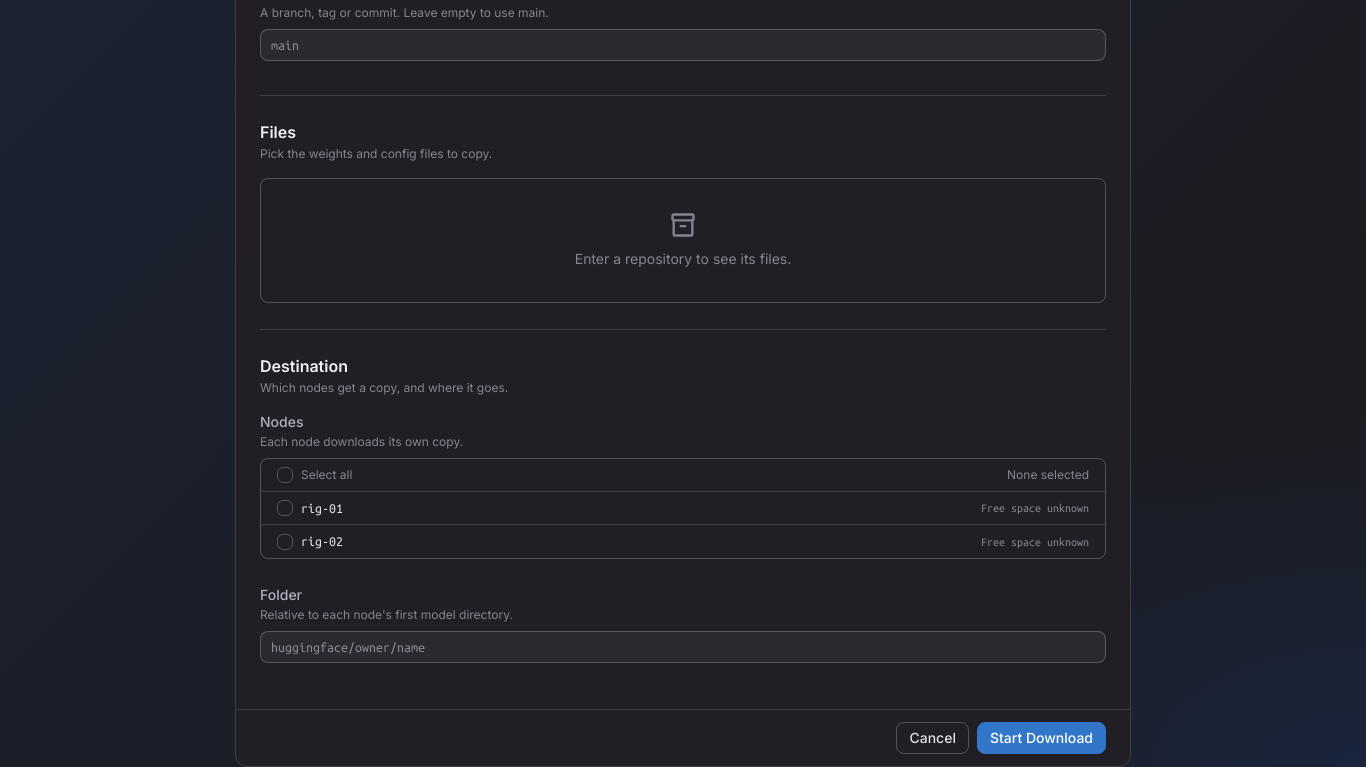
Test: Create download › counts the ticked nodes, and ticks every node from Select all
(page scrolled)
Click the checkbox labelled "rig-01" at (310, 508), box [277, 500, 343, 516]
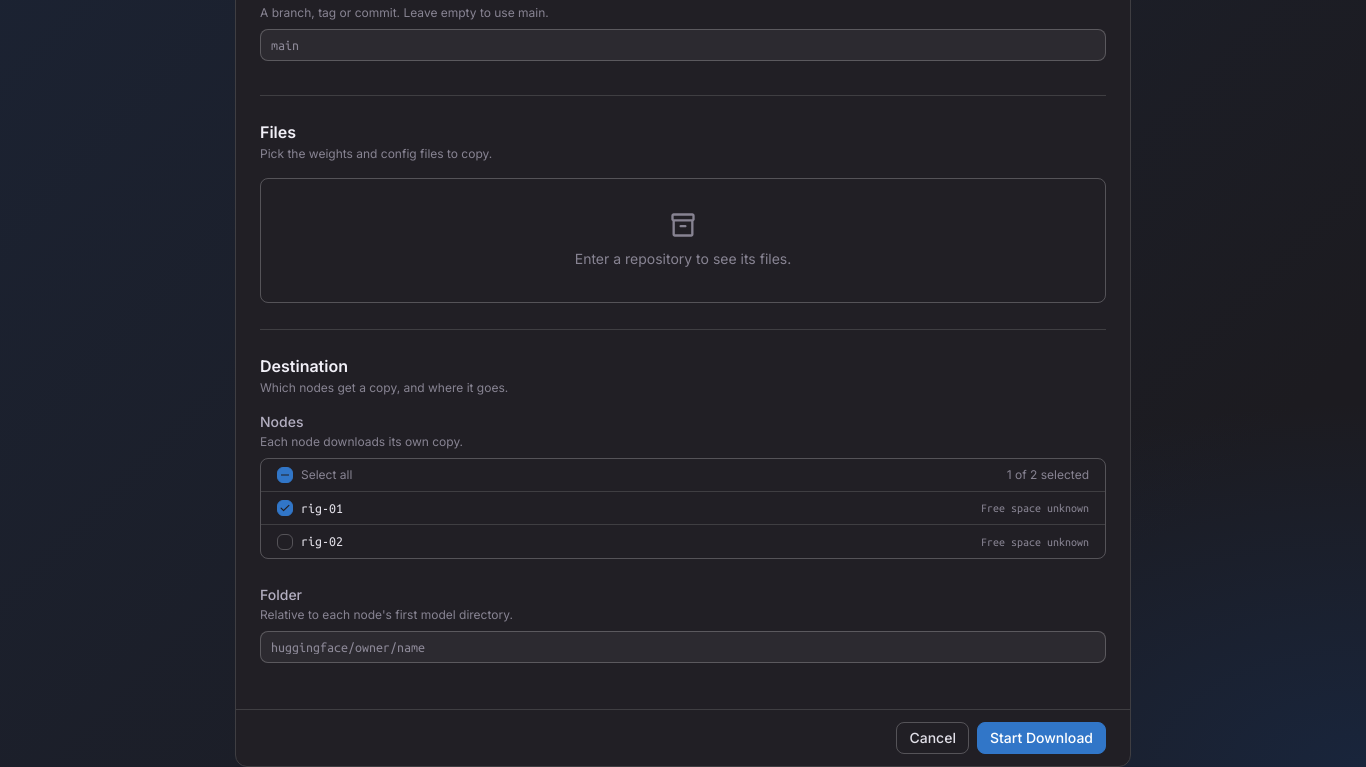
Check: the text with test id "picker-summary" reads "1 of 2 selected", box [1007, 467, 1089, 482]
Click the checkbox labelled "Select all" at (315, 475), box [277, 467, 352, 483]
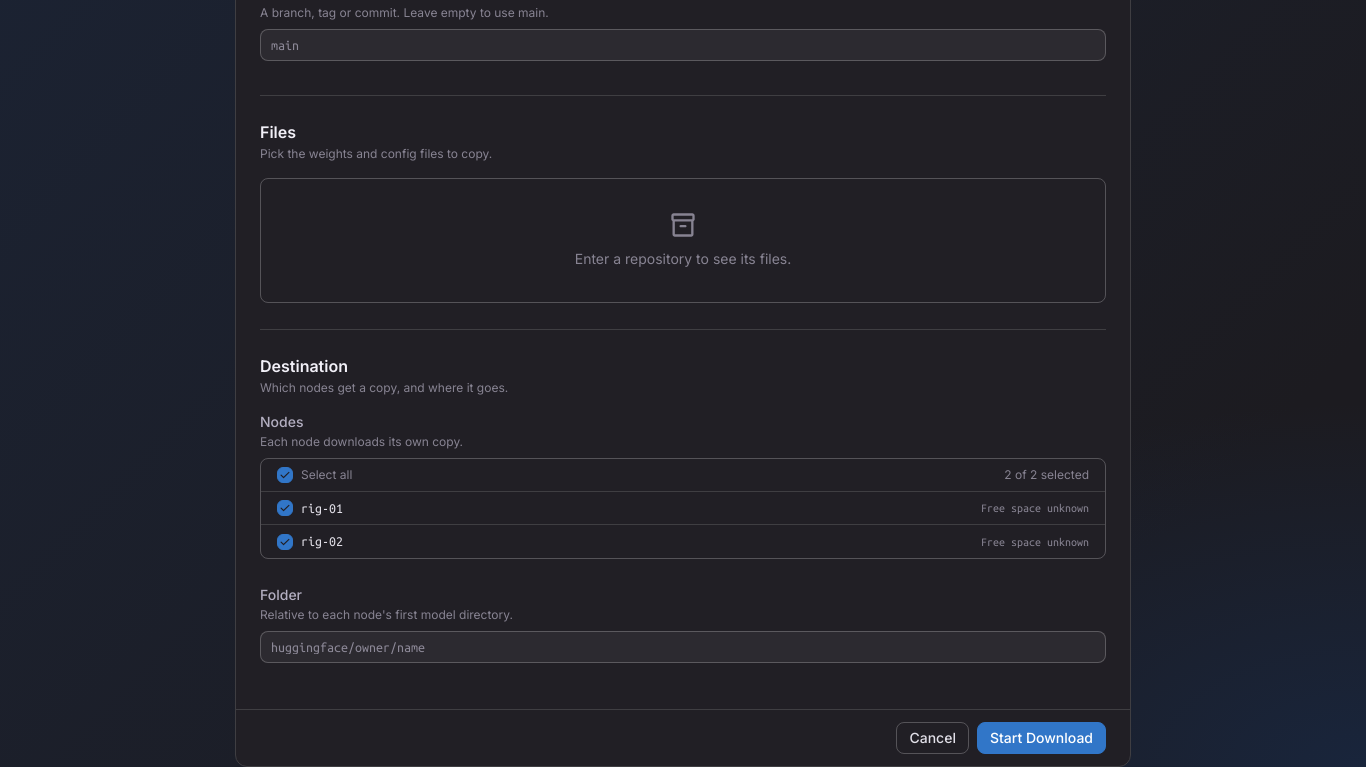
Check: the text with test id "picker-summary" reads "2 of 2 selected", box [1004, 467, 1089, 482]
